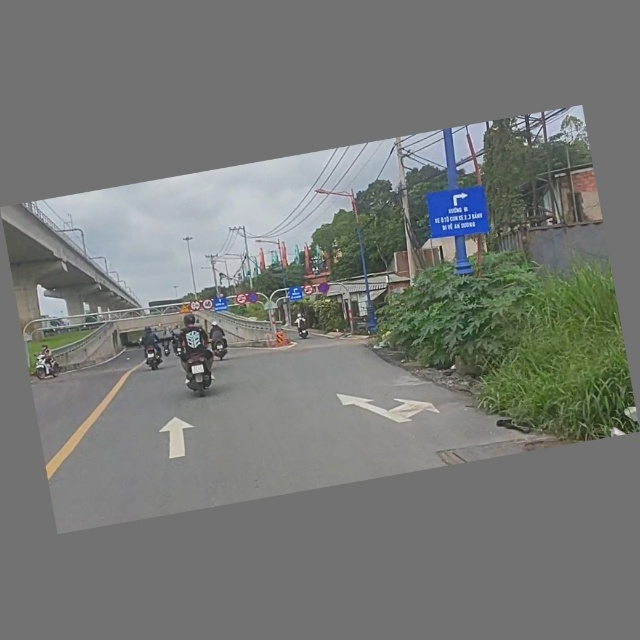P.107: (235, 293, 248, 306), (303, 284, 315, 296)
P.117*: (189, 300, 202, 313)
P.127*40: (201, 299, 214, 311)
P.130: (247, 292, 260, 305), (318, 282, 331, 295)
